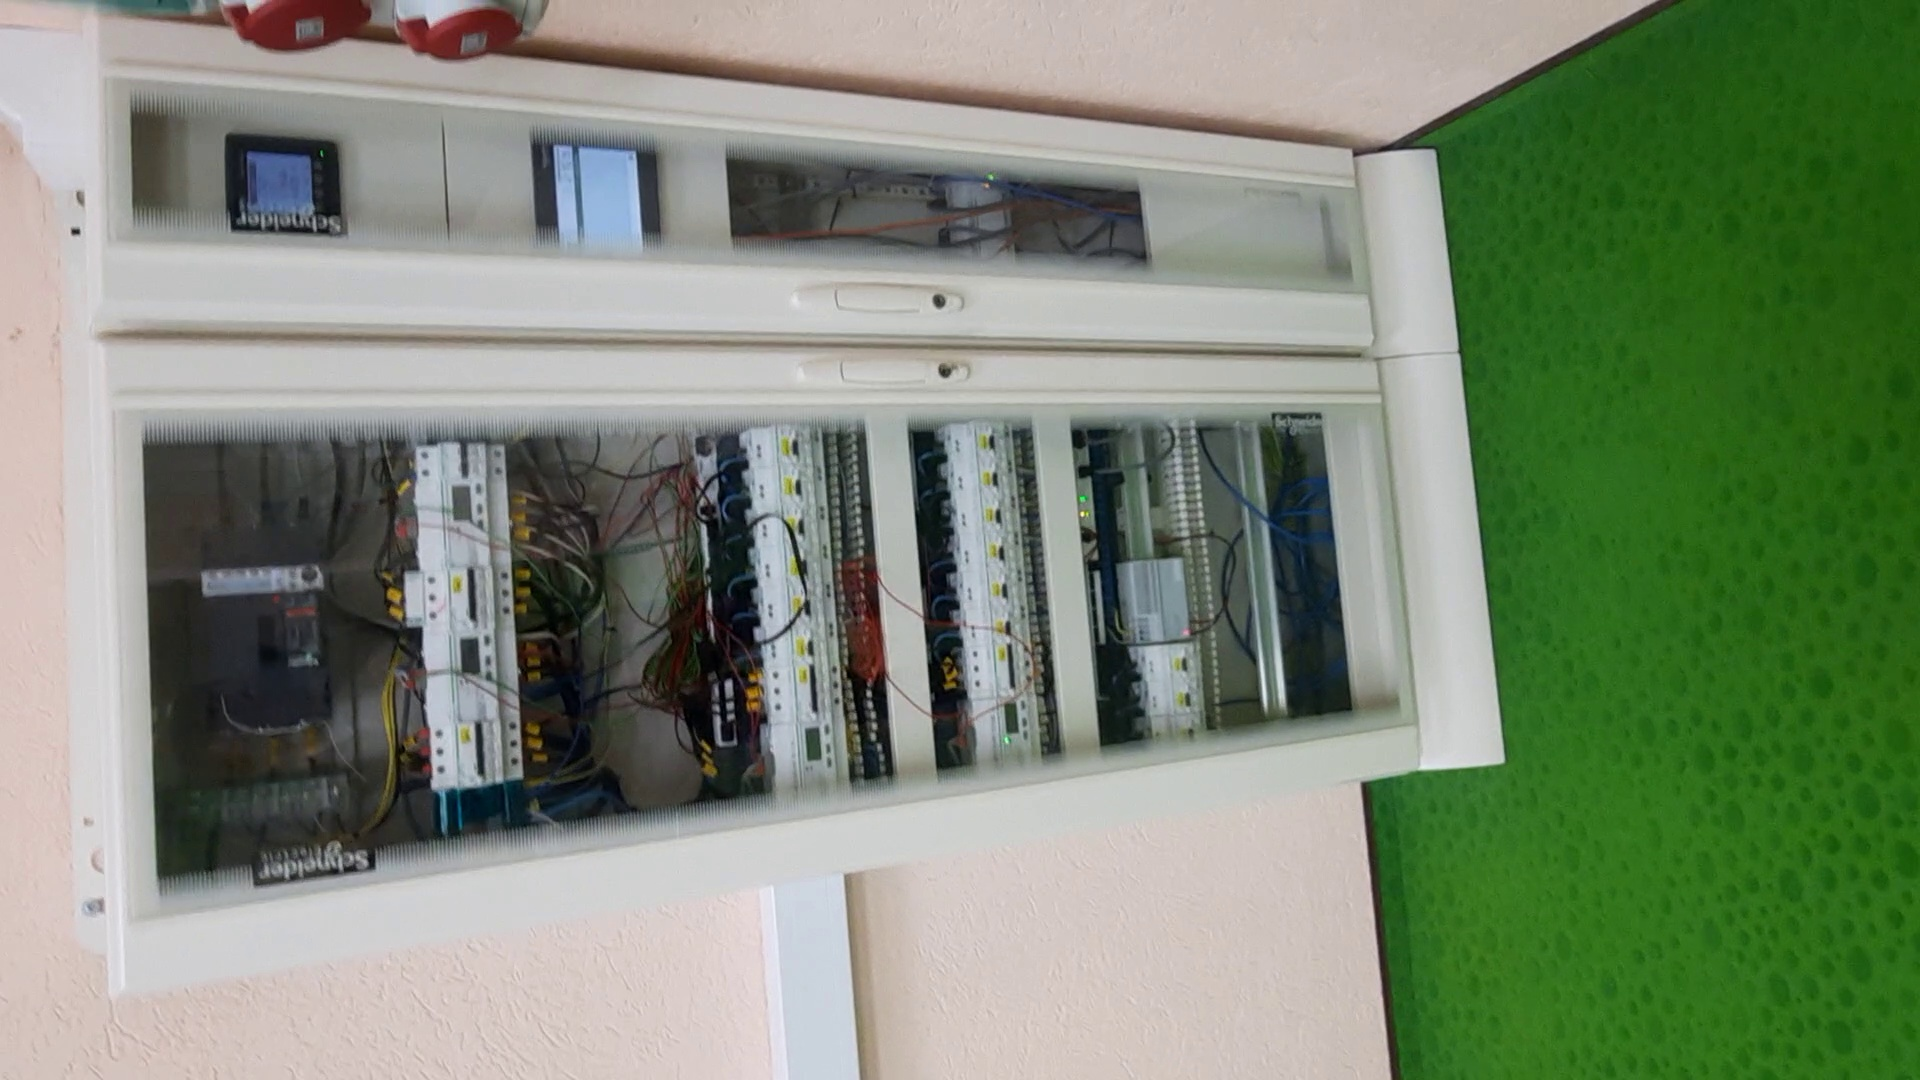stand1: (44, 1, 1524, 998)
